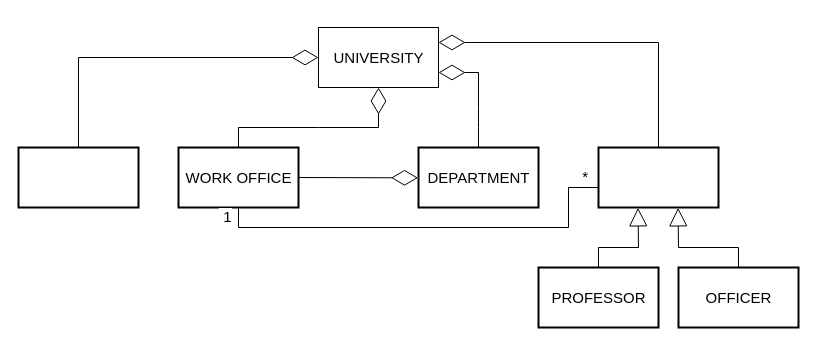
Some shapes in this 816 by 346 pixel diagram are drawn without their labels. Each missing label, with the centre of its shape:
"CLASSROOM" goes at pixel 78 177.
"EMPLOYEE" goes at pixel 658 177.
